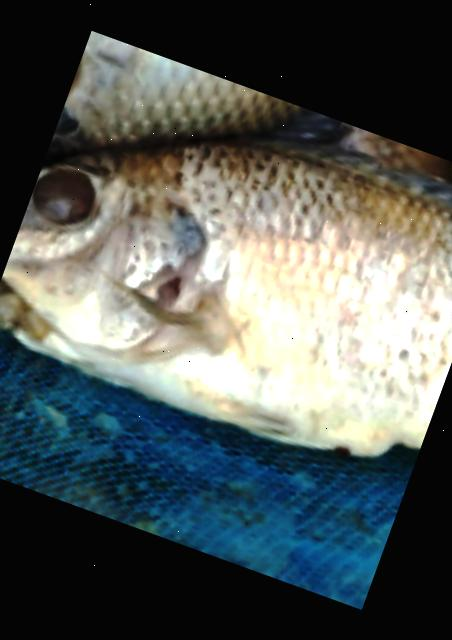Columnaris Disease: (0, 141, 452, 454)
